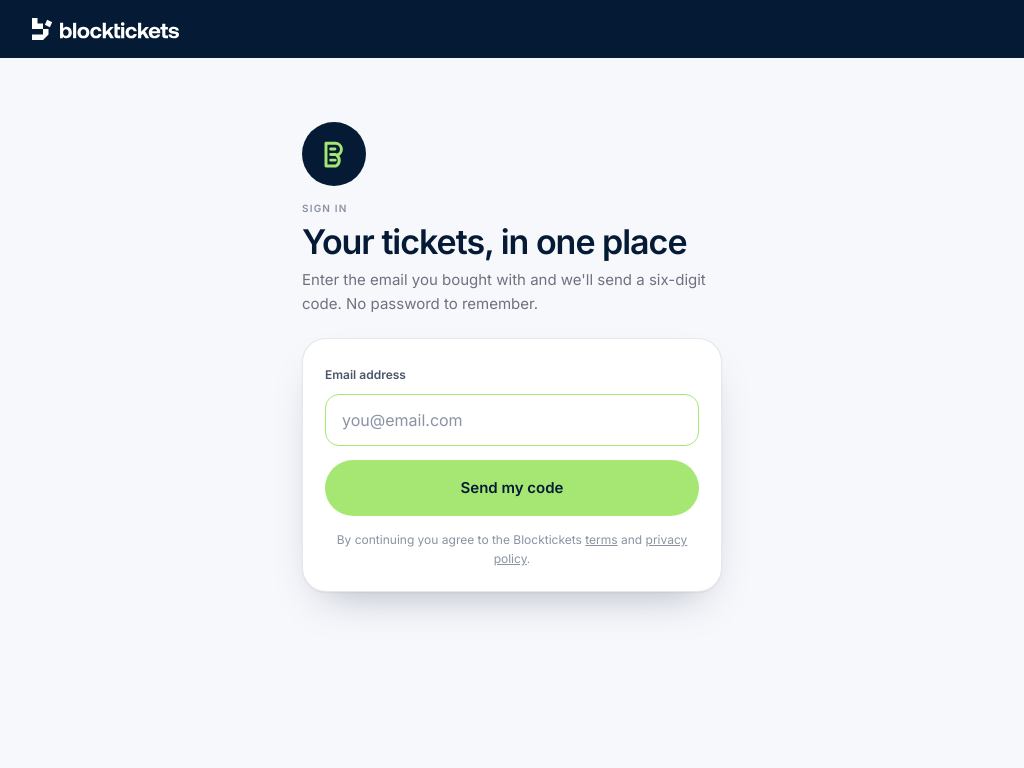
Scenario: Login page › keeps Send my code enabled when the email is empty and shows copy on submit
The width and height of the screenshot is (1024, 768).
Click the button "Send my code".
click(512, 488)  # box [325, 460, 699, 516]
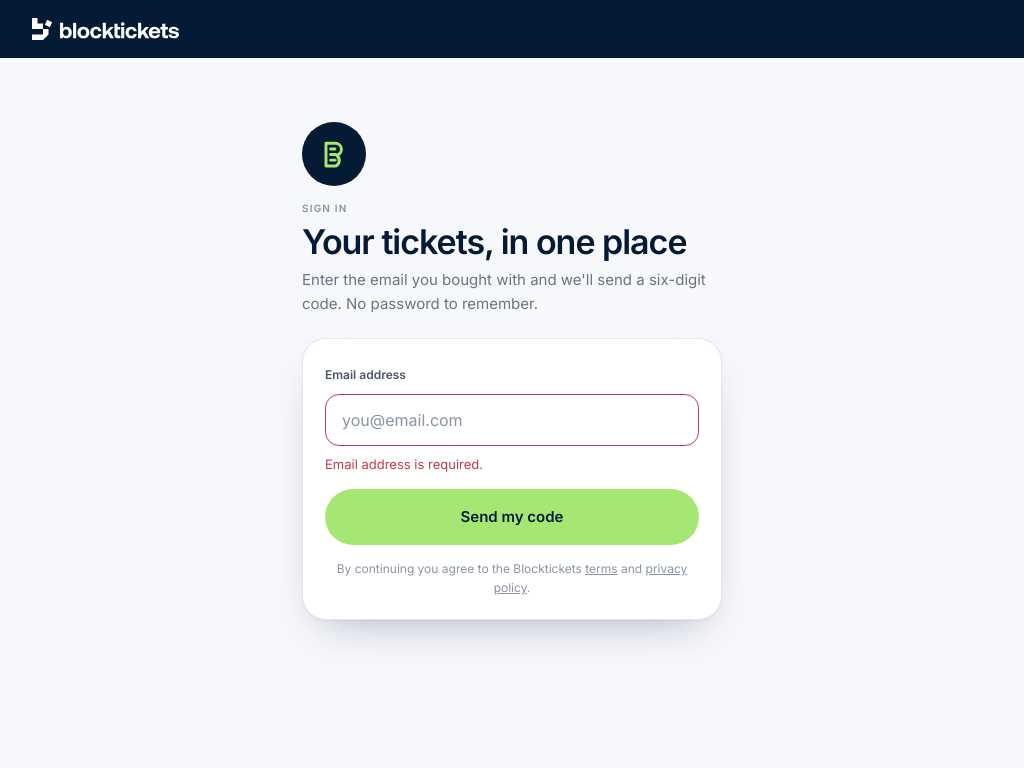
Check: the text "Email address is required." is shown, box [325, 456, 483, 472]
